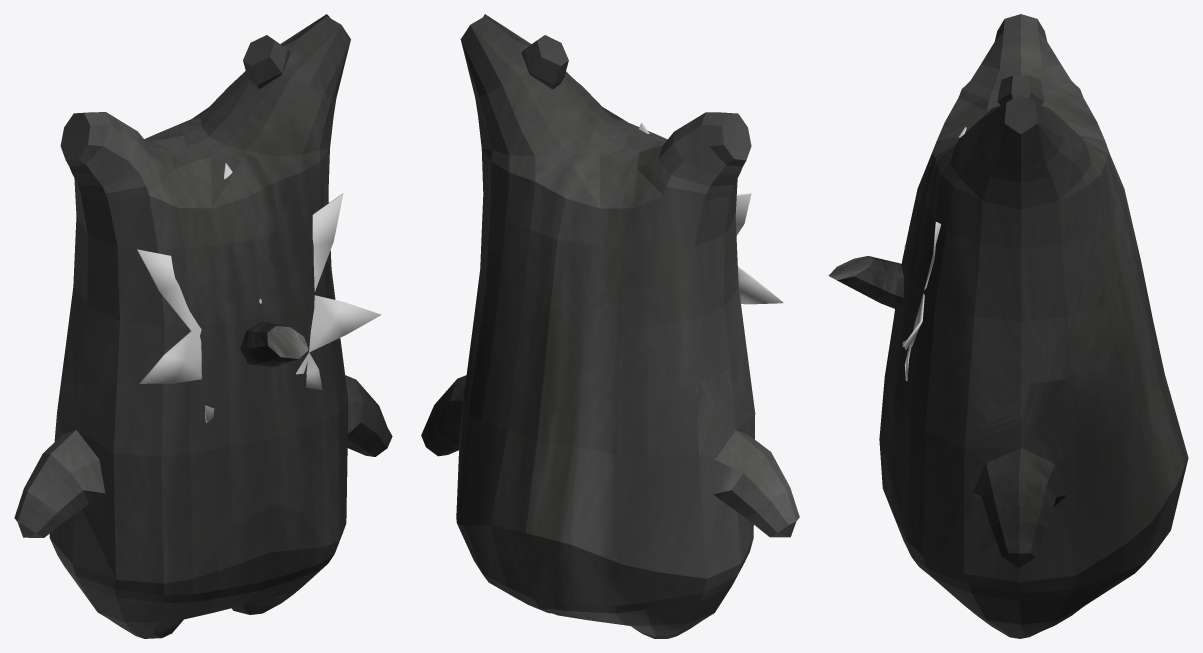
File: frame_0018.obj
3 renders of one model, left to right at view 1: azimuth 30°, elevation 25°; view 2: azimuth 150°, elevation 25°; view 3: azimuth 270°, elevation 25°, orthographic.
Visible parts, largest first — view 1: korok, leaf, nose.003_柱体.011; view 2: korok, leaf; view 3: korok, nose.003_柱体.011, leaf.
Part boxes in pixels (x1,y1,x2,y2): korok: [14, 14, 392, 638]; leaf: [137, 163, 381, 422]; nose.003_柱体.011: [240, 321, 308, 367]; korok: [421, 14, 799, 638]; leaf: [639, 122, 783, 304]; korok: [879, 14, 1188, 638]; nose.003_柱体.011: [828, 256, 903, 310]; leaf: [902, 127, 966, 381].
Bounding box in the file's own units: 1.62 × 2.41 × 1.36.
